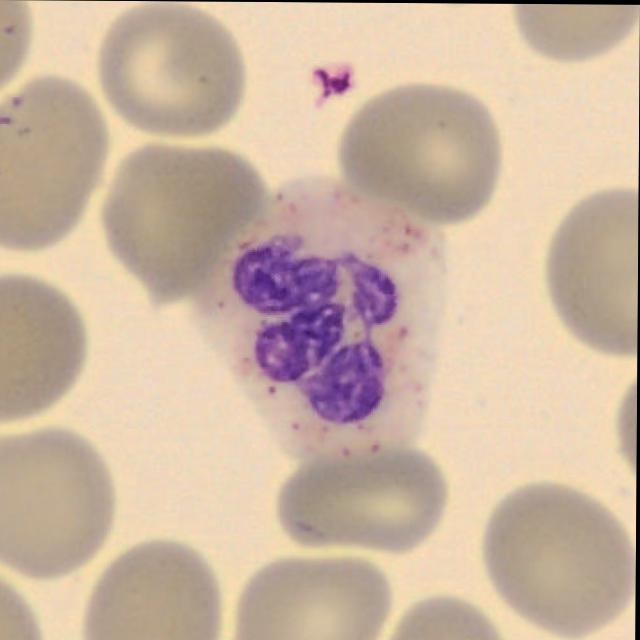Neutrofilo segmentado: (192, 176, 448, 467)
